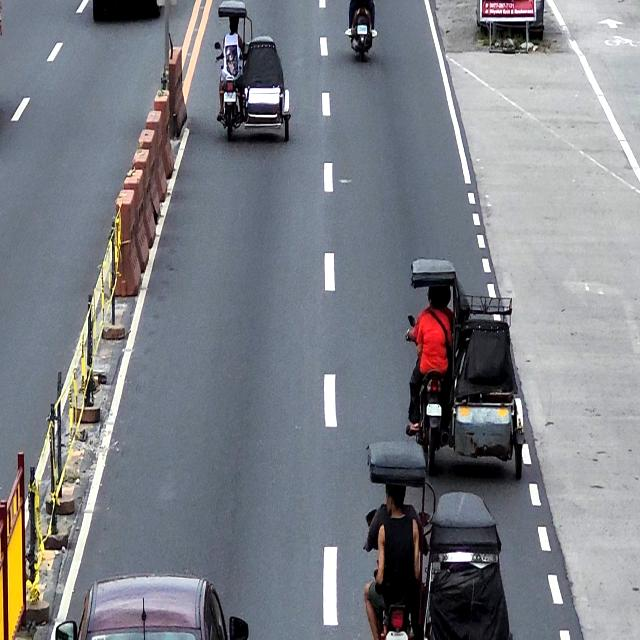License-Plate: (426, 402, 442, 418), (224, 91, 236, 102), (357, 24, 368, 35)
Motorcycle: (349, 0, 375, 62)
Tricycle: (366, 441, 513, 640), (408, 258, 524, 478), (216, 0, 291, 143)
